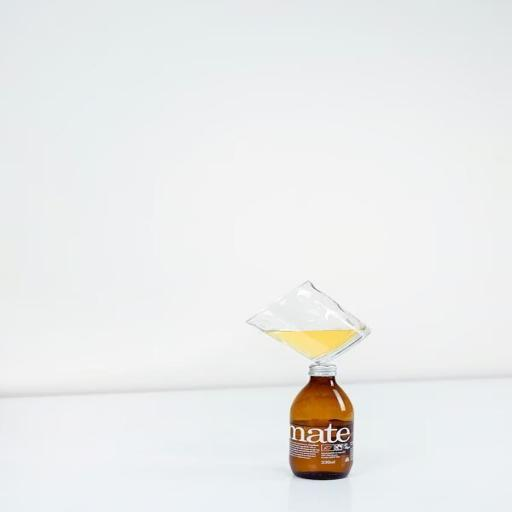bottle: (274, 361, 368, 486)
